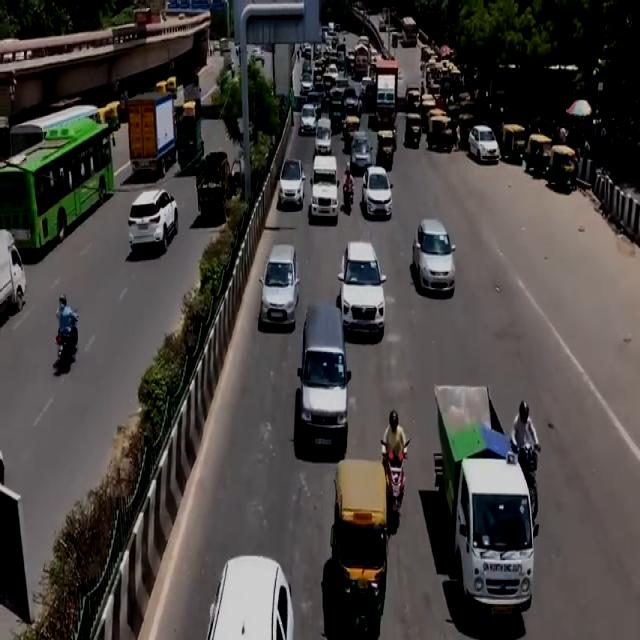BUS: (2, 110, 116, 262)
MOTORCYCLE: (383, 448, 407, 535)
TRUCK: (432, 393, 532, 625), (128, 94, 179, 182)
